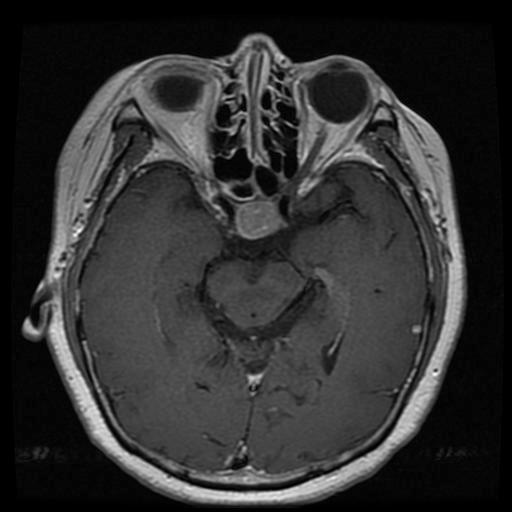Tumour-Pituitary: (230, 197, 294, 243)
